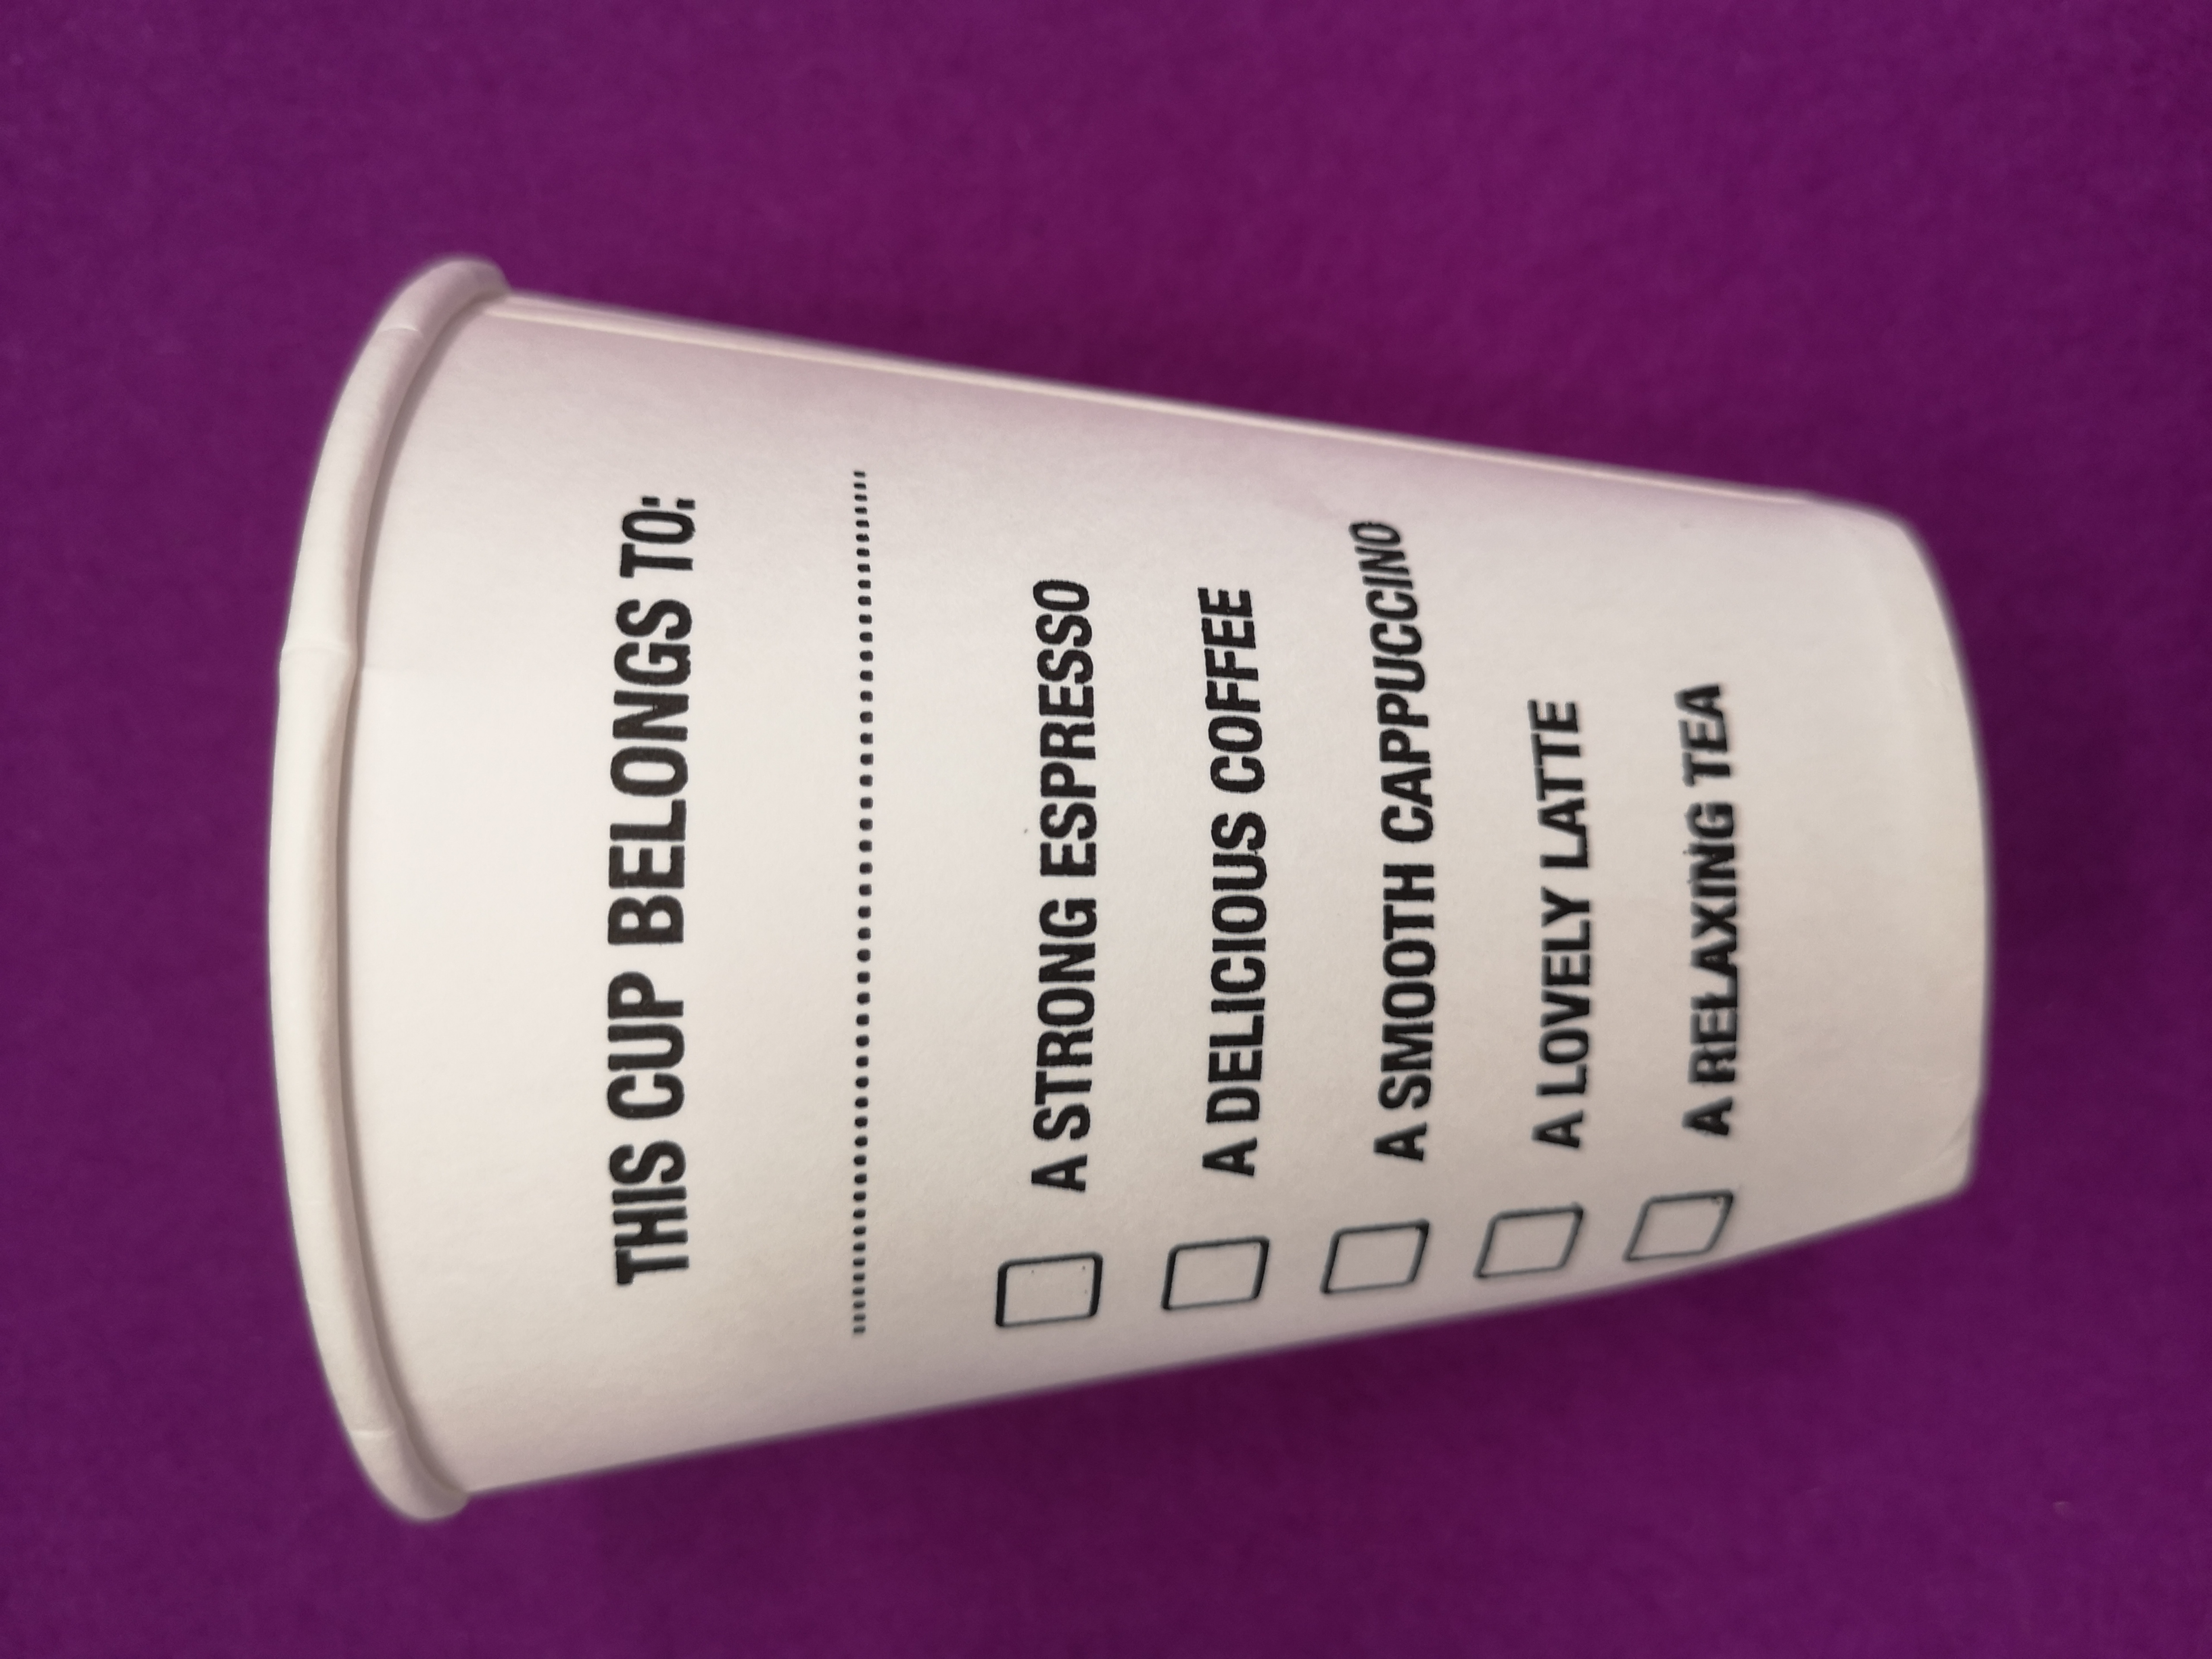cup: (246, 240, 2022, 1544)
